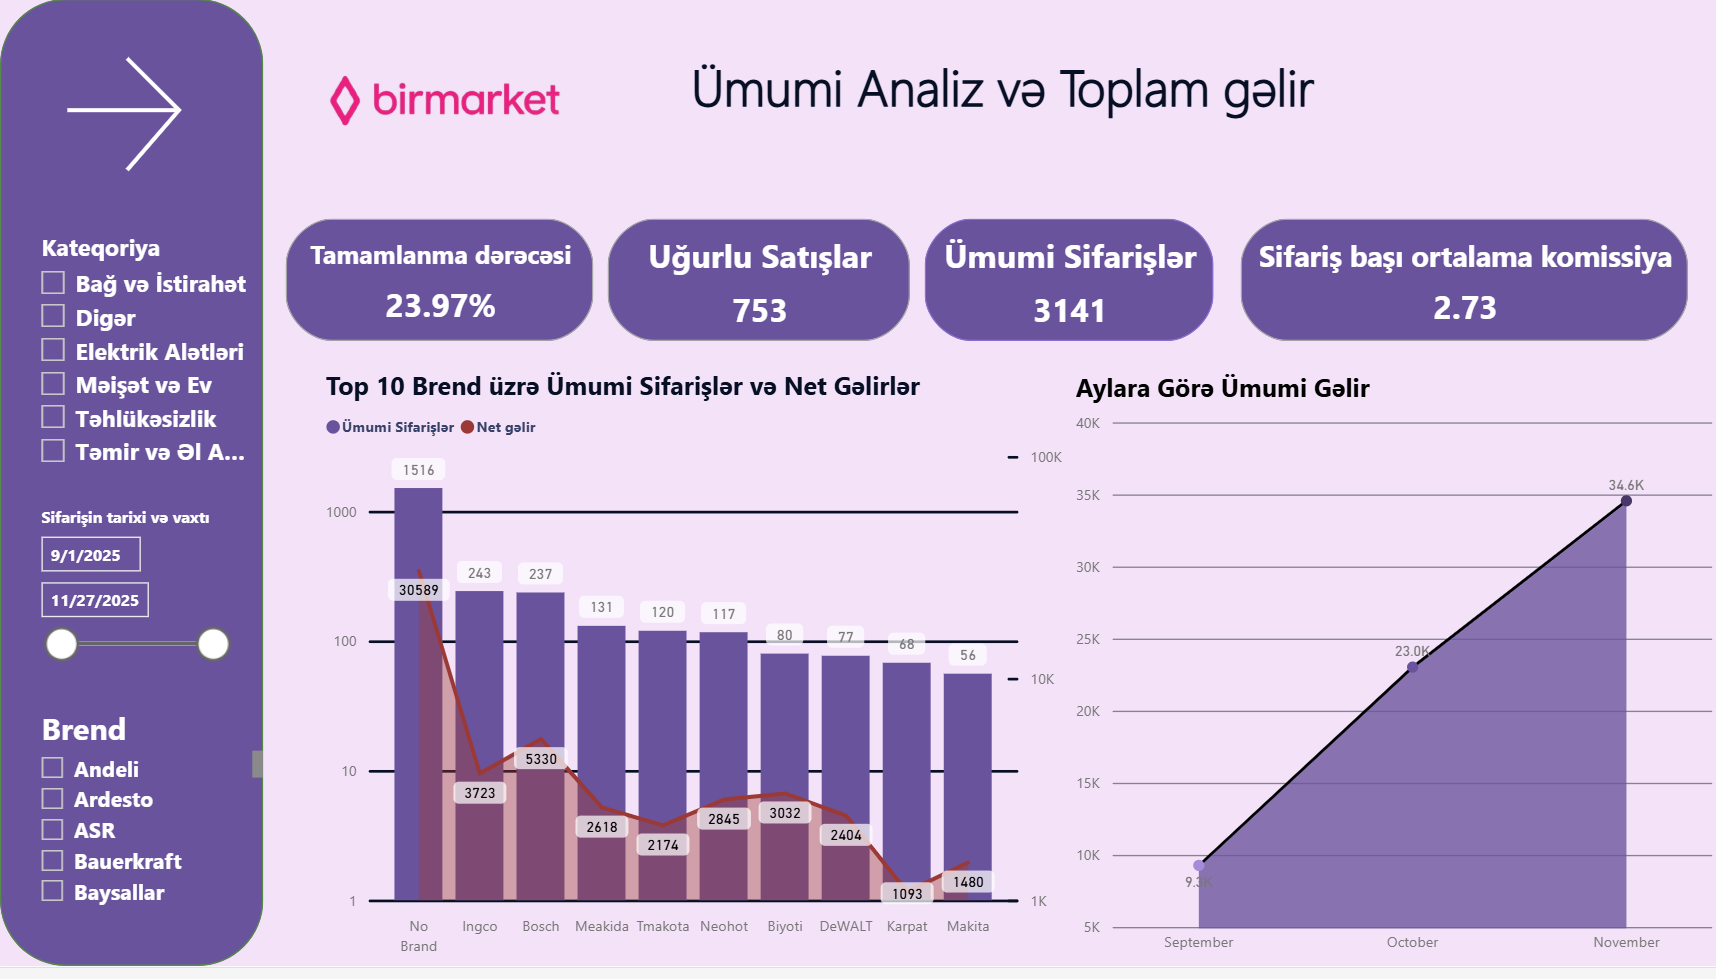

What the dashboard file says about the page in this screenshot:
{"tool":"powerbi","page":{"name":"Ümumi Analiz","canvas":[1280,720],"ordinal":0},"visuals":[{"type":"lineStackedColumnComboChart","title":"Top 10 Brend üzrə Ümumi Sifarişlər və Net Gəlirlər","fields":{"Category":["Export.Brend"],"Y":["Export.Total Orders"],"Y2":["Export.Net Satış"]},"box":[237.5,275,558.8,445],"z":0},{"type":"cardVisual","fields":{"Data":["Export.Completion Rate"]},"box":[207.8,158.5,239.7,101.9],"z":1000},{"type":"cardVisual","fields":{"Data":["Export.Avg Commission per Order"]},"box":[918.8,158.5,343.7,101.9],"z":2000},{"type":"areaChart","title":"Aylara Görə Ümumi Gəlir","fields":{"Category":["DateTable.Month Name"],"Y":["Export.Net gəlir"]},"box":[796.2,276.2,483.8,443.8],"z":3000},{"type":"cardVisual","fields":{"Data":["Export.Uğurlu Satışlar"]},"box":[447.6,158.5,235.6,101.9],"z":4000},{"type":"cardVisual","fields":{"Data":["Export.Total Orders"]},"box":[683.2,158.5,225.3,101.9],"z":5000},{"type":"image","box":[200,0,292.5,171.2],"z":6000},{"type":"shape","box":[0,0,196.1,720],"z":7000},{"type":"slicer","fields":{"Values":["Export.Ana Kateqoriya"]},"box":[17.5,167.5,171.2,192.5],"z":8000},{"type":"slicer","fields":{"Values":["Export.Sifarişin tarixi və vaxtı"]},"box":[17.5,372.5,162.5,150],"z":9000},{"type":"actionButton","box":[40.3,34,116.4,103],"z":10000},{"type":"slicer","fields":{"Values":["Export.Brend"]},"box":[17.5,522.5,182.5,157.5],"z":11000},{"type":"textbox","box":[447.8,34.9,598.2,78.8],"z":12000}]}

Visuals, with their boxes in screenshot pixels (x1, y1, x2, y2), scaled from the page's 1280x720 canvas onto the 1716x979 screenshot:
"Top 10 Brend üzrə Ümumi Sifarişlər və Net Gəlirlər" lineStackedColumnComboChart: bbox=[318, 374, 1068, 978]
cardVisual - Export.Completion Rate: bbox=[279, 216, 600, 354]
cardVisual - Export.Avg Commission per Order: bbox=[1232, 216, 1693, 354]
"Aylara Görə Ümumi Gəlir" areaChart: bbox=[1067, 376, 1715, 978]
cardVisual - Export.Uğurlu Satışlar: bbox=[600, 216, 916, 354]
cardVisual - Export.Total Orders: bbox=[916, 216, 1218, 354]
image: bbox=[268, 0, 660, 233]
shape: bbox=[0, 0, 263, 978]
slicer - Export.Ana Kateqoriya: bbox=[23, 228, 253, 490]
slicer - Export.Sifarişin tarixi və vaxtı: bbox=[23, 506, 241, 710]
actionButton: bbox=[54, 46, 210, 186]
slicer - Export.Brend: bbox=[23, 710, 268, 925]
textbox: bbox=[600, 47, 1402, 155]
